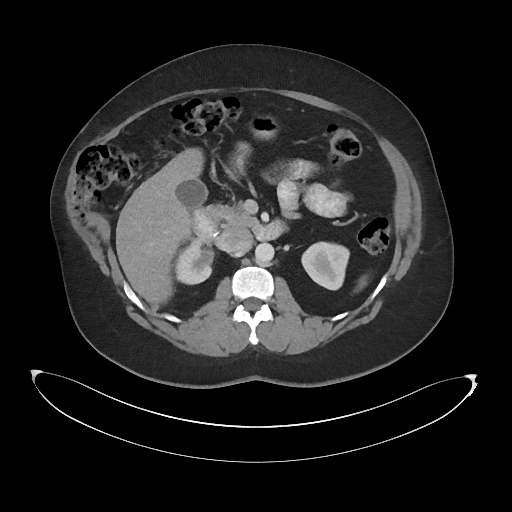Lesion: (190, 246, 215, 274)
